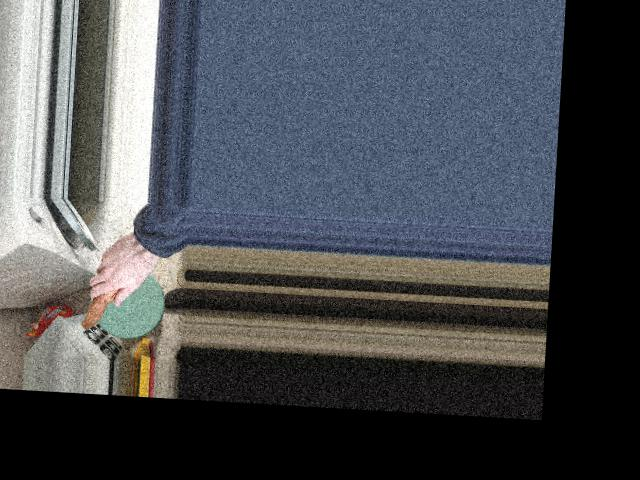sweet_potato: (80, 253, 140, 329)
